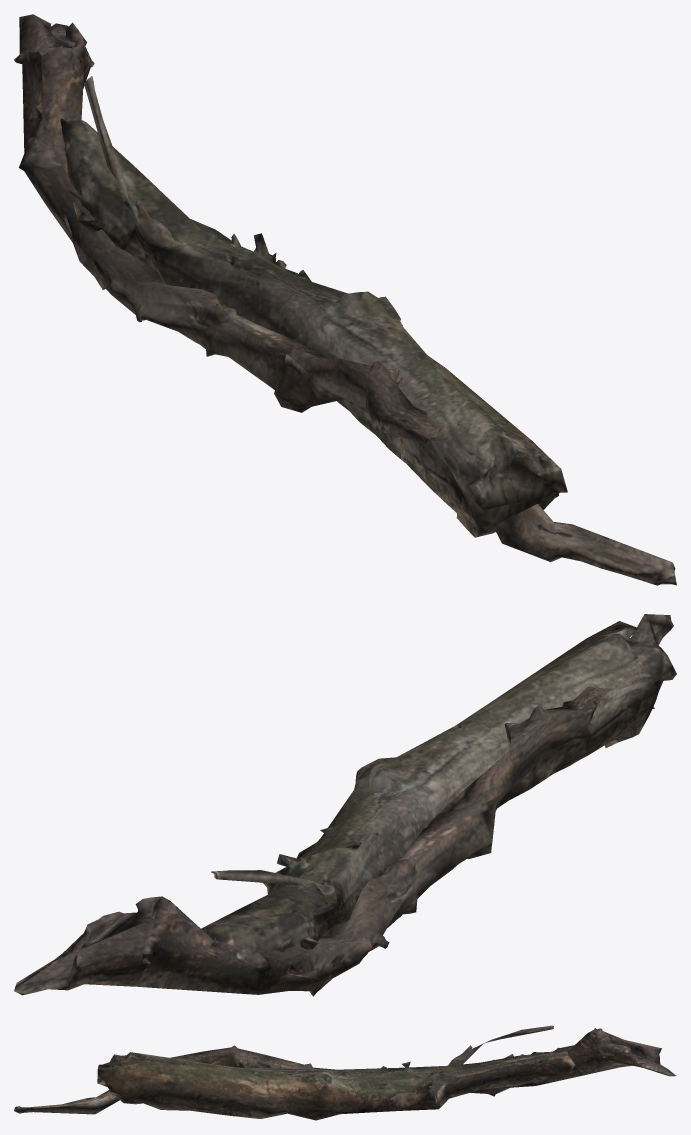
Rendered from branches.gltf.
3 views of the same model, one above another, from view 1: azimuth 30°, elevation 25°; view 2: azimuth 150°, elevation 25°; view 3: azimuth 270°, elevation 25° (orthographic). The views are drawn at different scales.
Parts seen in each view (by area): view 1: branch_c, branch_b; view 2: branch_c, branch_b; view 3: branch_c, branch_b.
Boxes of the visible parts, left/top/right/bottom form: branch_c: left=60, top=76, right=567, bottom=537; branch_b: left=14, top=14, right=676, bottom=585; branch_c: left=201, top=621, right=676, bottom=953; branch_b: left=14, top=614, right=673, bottom=996; branch_c: left=97, top=1025, right=574, bottom=1120; branch_b: left=14, top=1028, right=676, bottom=1114.
Size of the model in its own units: 0.1512 by 0.1433 by 1.04.
Materials: 1 (1 with a texture image).
